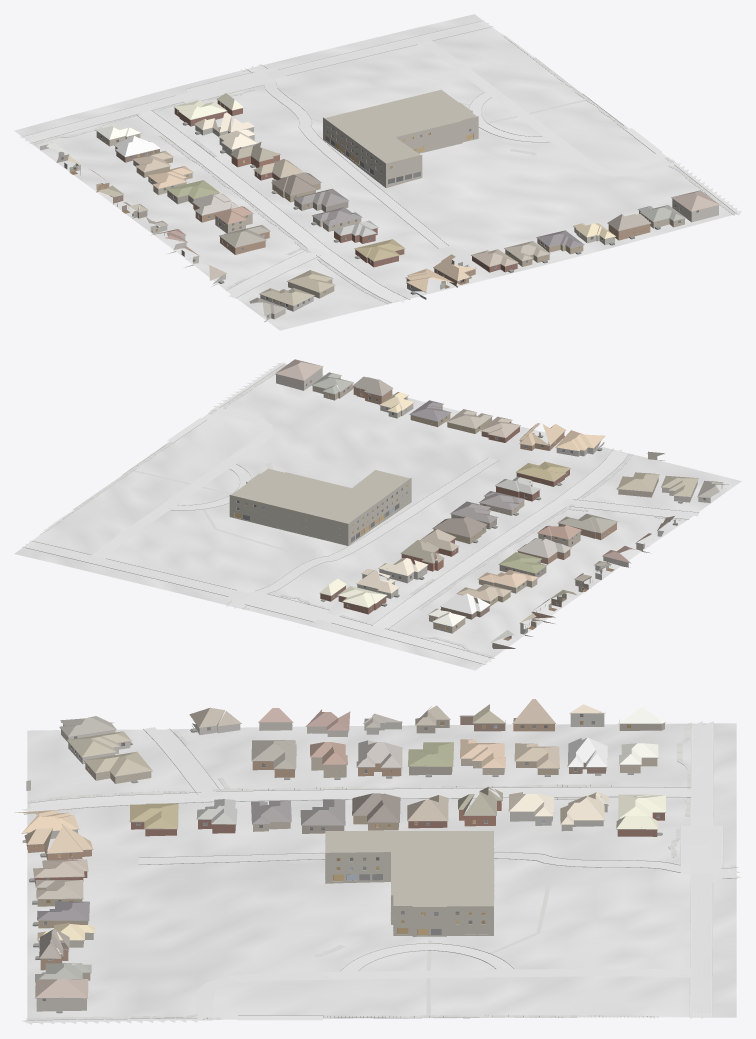
The picture shows the model from 3 angles, top to bottom: view 1: azimuth 30°, elevation 25°; view 2: azimuth 150°, elevation 25°; view 3: azimuth 270°, elevation 25°; orthographic projection. The views are drawn at different scales.
Visible parts, largest first — view 1: ground, roof, concrete, wall, roof_flat, asphalt, wall_com, curb, walk, detail, wall_stucco, glass (+1 smaller); view 2: ground, roof, concrete, roof_flat, asphalt, wall, wall_com, curb, walk, wall_stucco, detail, wall_stone (+1 smaller); view 3: ground, roof, concrete, roof_flat, asphalt, wall, walk, wall_com, curb, wall_stucco, detail, wall_stone (+3 smaller).
Boxes of the visible parts, left/top/right/bottom form: ground: left=14, top=14, right=738, bottom=330; roof: left=46, top=93, right=719, bottom=316; concrete: left=135, top=41, right=677, bottom=302; wall: left=56, top=100, right=684, bottom=298; roof_flat: left=324, top=89, right=476, bottom=163; asphalt: left=19, top=21, right=741, bottom=215; wall_com: left=323, top=110, right=478, bottom=188; curb: left=22, top=20, right=736, bottom=303; walk: left=31, top=35, right=735, bottom=303; detail: left=40, top=99, right=719, bottom=317; wall_stucco: left=96, top=125, right=718, bottom=322; glass: left=61, top=103, right=698, bottom=317; ground: left=14, top=364, right=741, bottom=670; roof: left=275, top=359, right=728, bottom=643; concrete: left=92, top=407, right=698, bottom=630; roof_flat: left=231, top=468, right=409, bottom=523; asphalt: left=25, top=362, right=491, bottom=664; wall: left=312, top=377, right=658, bottom=648; wall_com: left=229, top=478, right=411, bottom=545; curb: left=22, top=363, right=698, bottom=664; walk: left=42, top=364, right=682, bottom=657; wall_stucco: left=276, top=368, right=722, bottom=633; detail: left=234, top=366, right=725, bottom=642; wall_stone: left=379, top=441, right=697, bottom=636; ground: left=27, top=723, right=736, bottom=1022; roof: left=15, top=699, right=665, bottom=998; concrete: left=21, top=727, right=741, bottom=1020; roof_flat: left=325, top=831, right=493, bottom=906; asphalt: left=21, top=721, right=722, bottom=1024; wall: left=27, top=715, right=664, bottom=980; walk: left=26, top=722, right=735, bottom=1019; wall_com: left=325, top=852, right=493, bottom=936; curb: left=24, top=722, right=737, bottom=1020; wall_stucco: left=26, top=722, right=657, bottom=1011; detail: left=21, top=713, right=665, bottom=1013; wall_stone: left=22, top=712, right=604, bottom=842.
Bounding box in the file's own units: 260 × 17.32 × 257.
